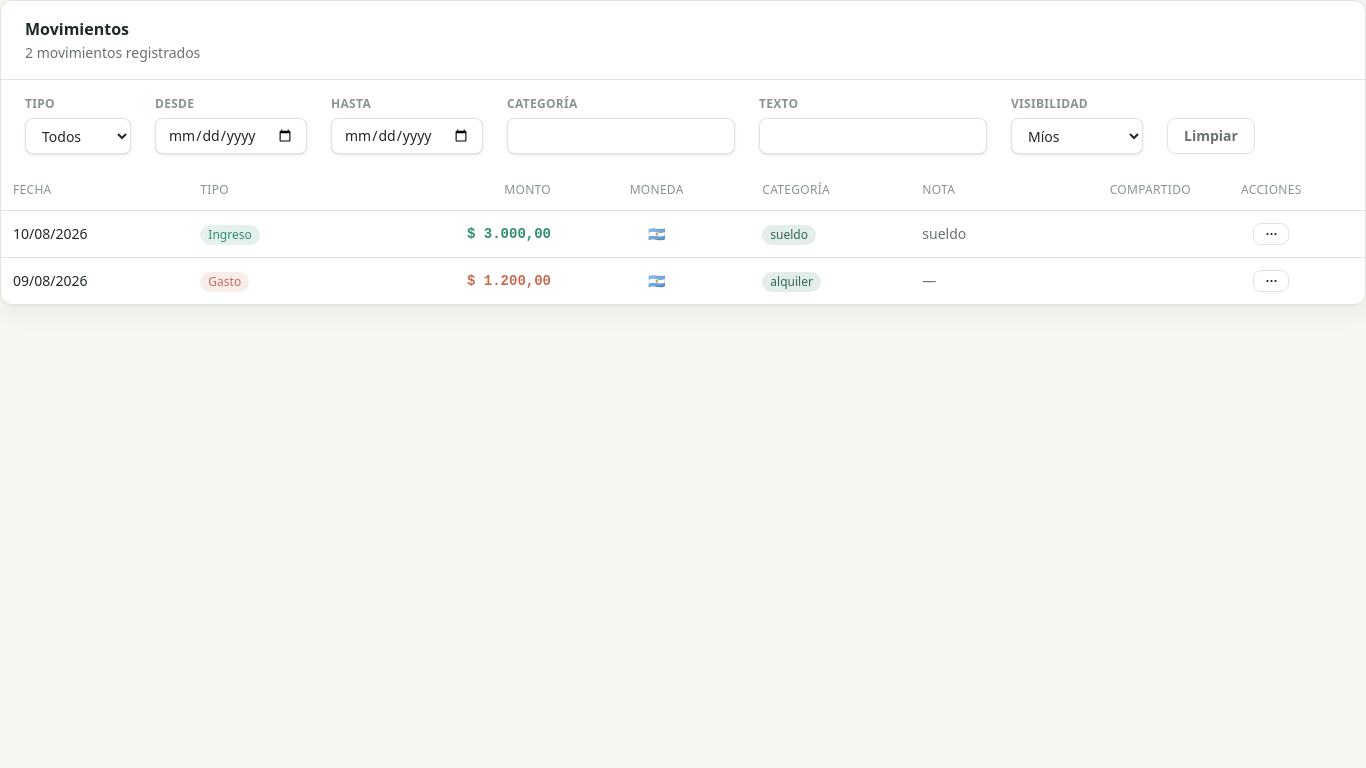
Test: MovementList › shows a Spanish error and keeps the row when deletion fails
Expected: the table is shown, top-left (1, 170), bottom-right (1365, 304)
Click the button named "abrir acciones": (1271, 234) top-left (1253, 223), bottom-right (1289, 245)
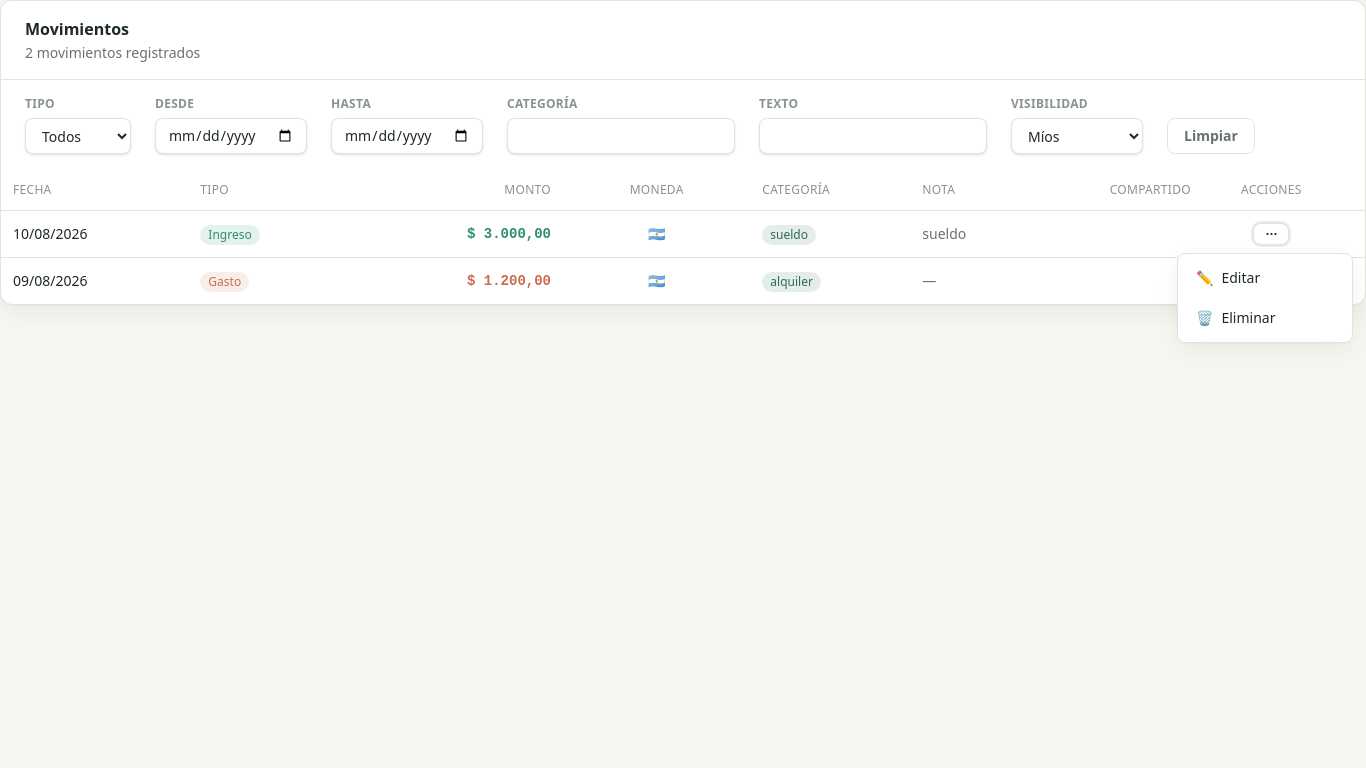
Click the button "🗑️ Eliminar": (1265, 318) top-left (1184, 300), bottom-right (1346, 336)
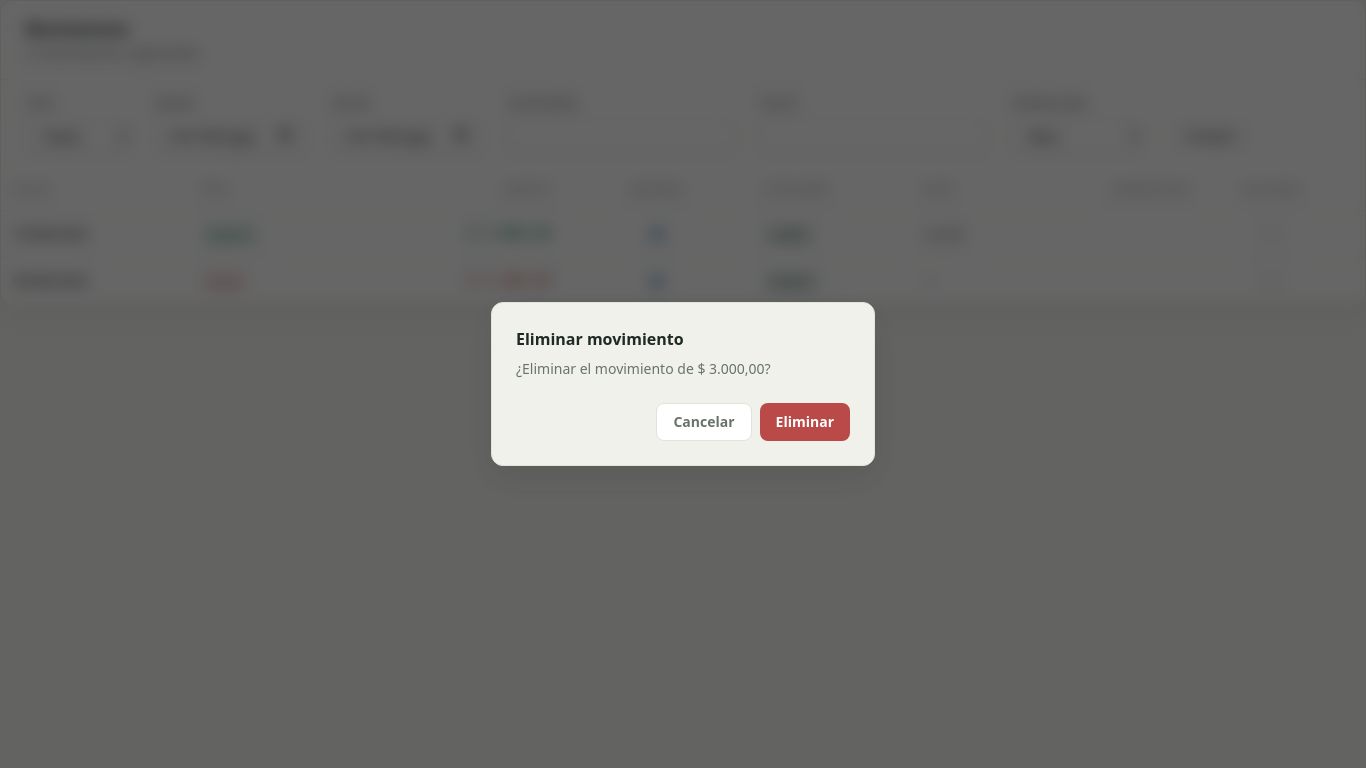
Click the button "Eliminar": (805, 422) top-left (760, 403), bottom-right (850, 441)
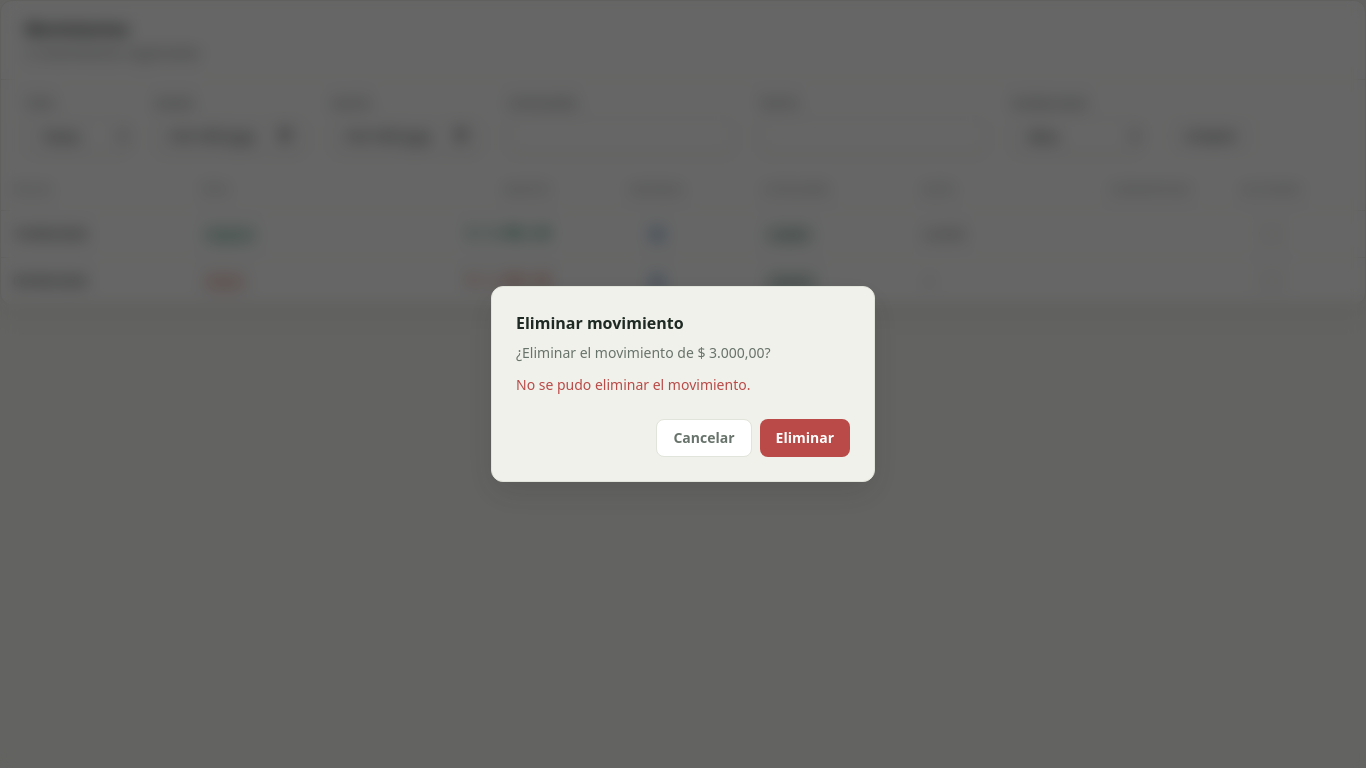
Result: the dialog is shown at top-left (491, 286), bottom-right (875, 482)
Result: the message shows "No se pudo eliminar" at top-left (516, 375), bottom-right (750, 394)
